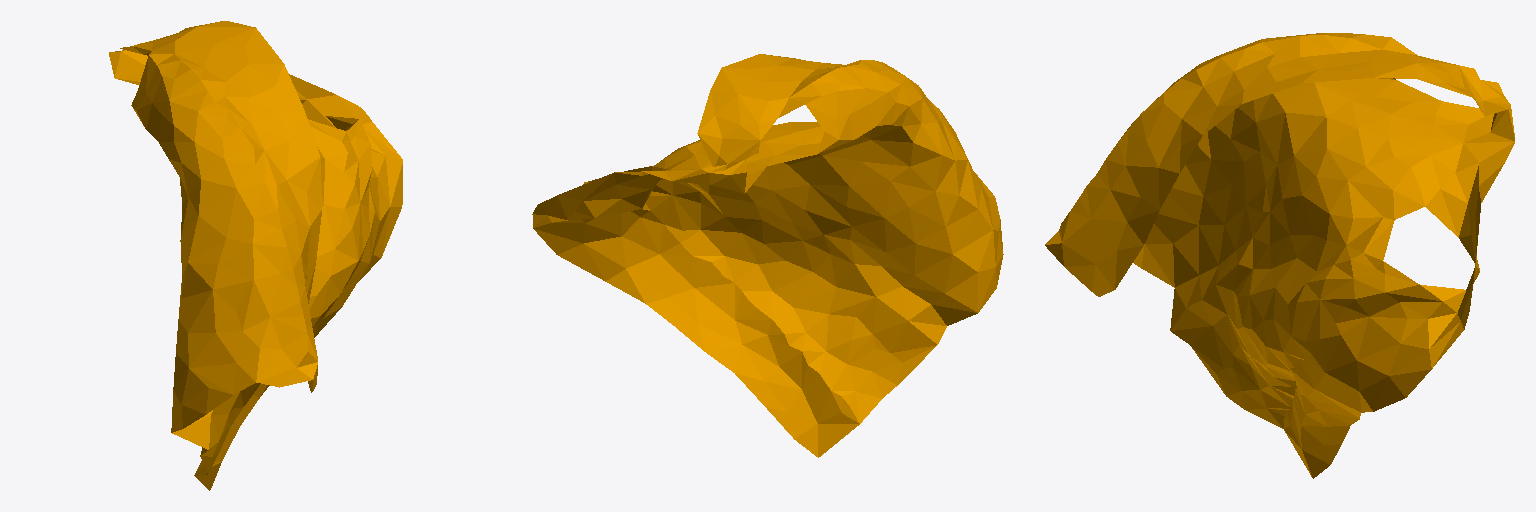
robot.urdf — init:
<?xml version='1.0' encoding='utf-8'?>
<robot name="init">
<link name="link_0"><inertial><mass value="1.0" /><origin rpy="0 0 0" xyz="0.000000 0.000000 0.000000" /><inertia ixx="1.0" ixy="0.0" ixz="0.0" iyy="1.0" iyz="0.0" izz="1.0" /></inertial><visual><origin rpy="0 0 0" xyz="0.000000 0.000000 0.000000" /><geometry><mesh filename="./clothHuman/cloth/1729.obj" /></geometry></visual><collision><origin rpy="0 0 0" xyz="0.000000 0.000000 0.000000" /><geometry><mesh filename="./clothHuman/cloth/1729.obj" /></geometry></collision></link></robot>

--- Render facts (derived) ---
3 views of the same robot in one strip: view 1: azimuth 30°, elevation 25°; view 2: azimuth 150°, elevation 25°; view 3: azimuth 270°, elevation 25° (orthographic).
Model init with 1 links and 0 joints (none), rooted at link_0, posed every joint at zero.
Links seen in each view (by area): view 1: link_0; view 2: link_0; view 3: link_0.
Link boxes in pixels (x1,y1,x2,y2): link_0: (109,21,402,490); link_0: (532,54,1003,457); link_0: (1045,33,1514,478).
Bounding box of the posed robot: 3.06 × 3.34 × 3.44 m (x, y, z).
1 mesh visuals loaded from 1 distinct referenced files (1 OBJ).